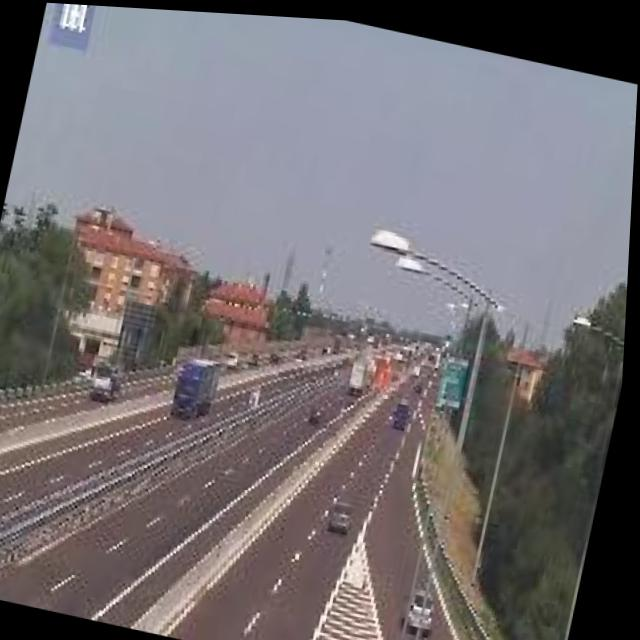fire: (369, 349, 405, 391)
